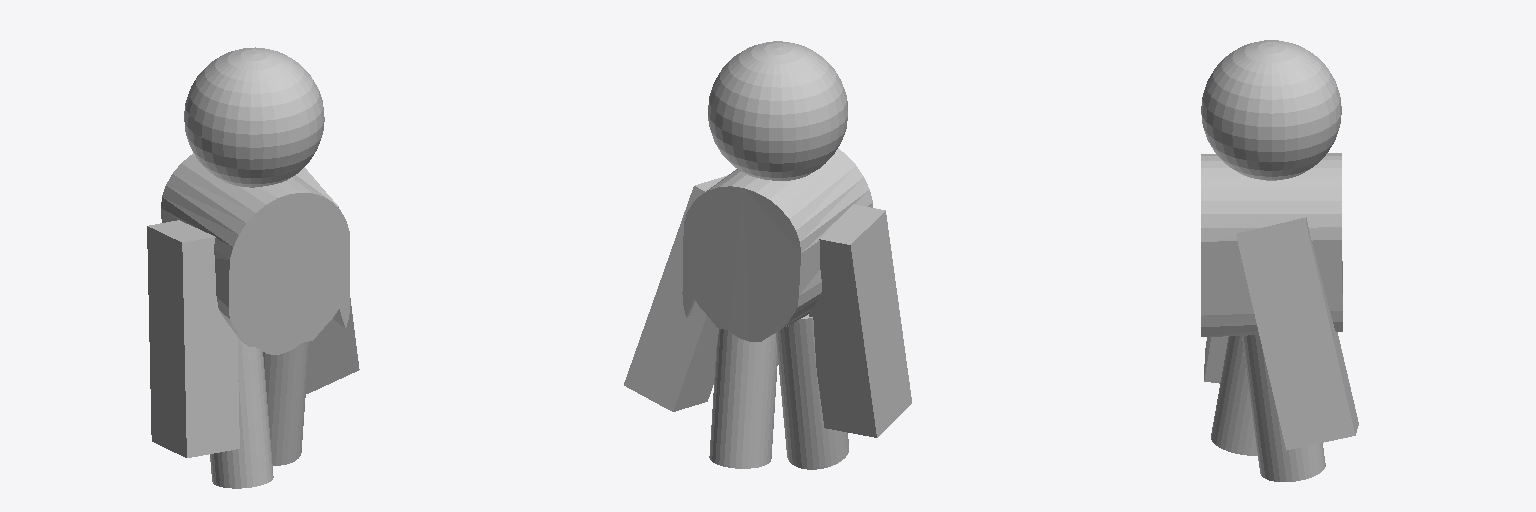
The model's file is Figurine140.obj.
3 renders of one model, left to right at view 1: azimuth 30°, elevation 25°; view 2: azimuth 150°, elevation 25°; view 3: azimuth 270°, elevation 25°, orthographic.
Visible parts, largest first — view 1: Cylinder; view 2: Cylinder; view 3: Cylinder.
Boxes of the visible parts, x1=… form: Cylinder: x1=147, y1=47, x2=359, y2=488; Cylinder: x1=624, y1=41, x2=911, y2=469; Cylinder: x1=1201, y1=40, x2=1358, y2=481.
Bounding box in the file's own units: 3.49 × 6.46 × 2.24.